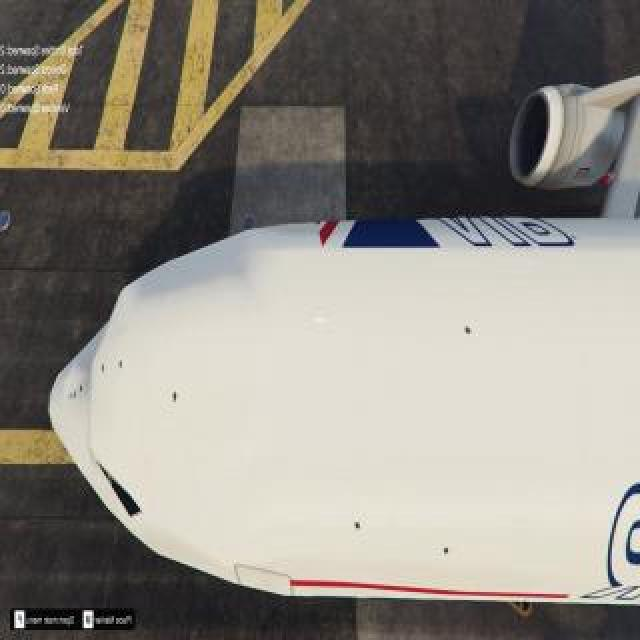crack: (463, 323, 473, 339), (355, 520, 363, 532), (443, 544, 451, 556), (172, 392, 180, 404), (117, 360, 125, 372), (68, 390, 76, 402), (80, 382, 84, 396), (102, 362, 106, 374)
